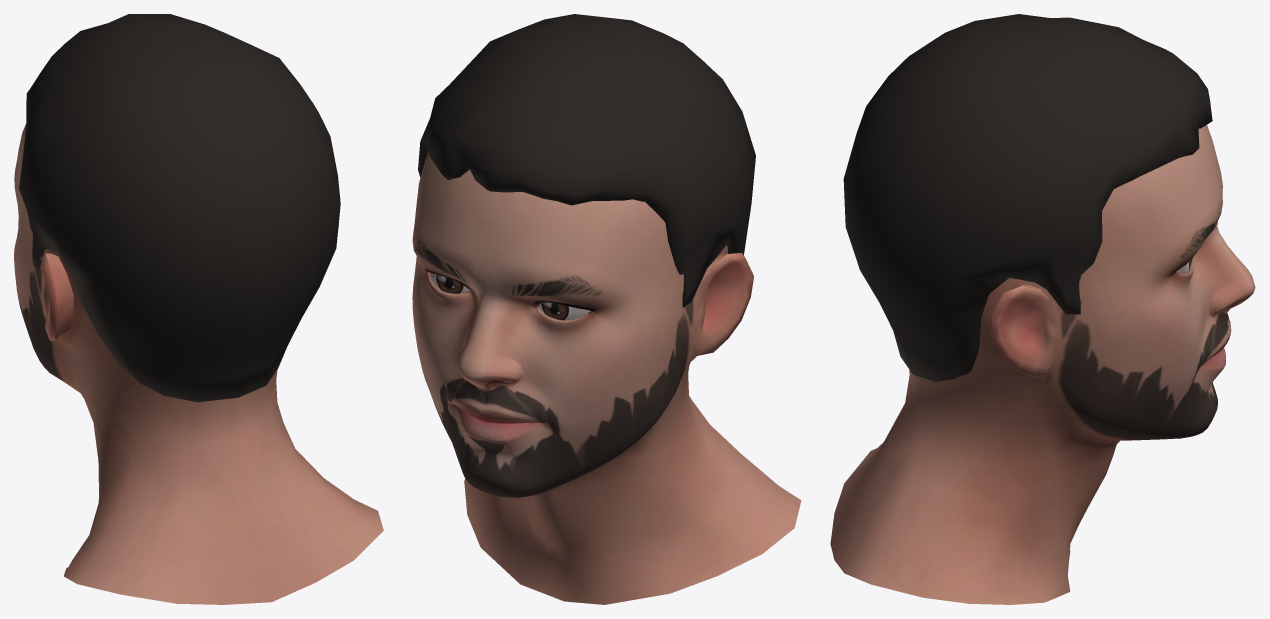
File: av_ifahad_head.glb
3 views of the same model, side by side, from view 1: azimuth 30°, elevation 25°; view 2: azimuth 150°, elevation 25°; view 3: azimuth 270°, elevation 25° (orthographic). The views are drawn at different scales.
Visible parts, largest first — view 1: EyeLeft; view 2: EyeLeft; view 3: EyeLeft.
Boxes of the visible parts, x1=… form: EyeLeft: x1=14, y1=14, x2=383, y2=604; EyeLeft: x1=412, y1=14, x2=801, y2=604; EyeLeft: x1=830, y1=14, x2=1255, y2=604.
Size of the model in its own units: 0.3838 by 0.6408 by 0.4507.
Materials: 3 (3 with a texture image).
